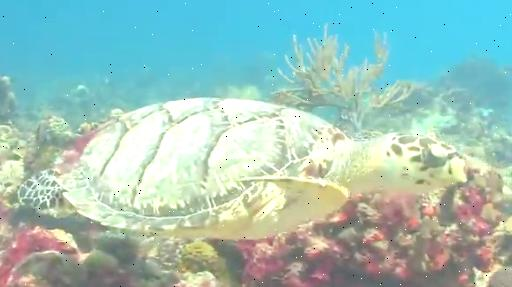Fish: (19, 99, 466, 239)
